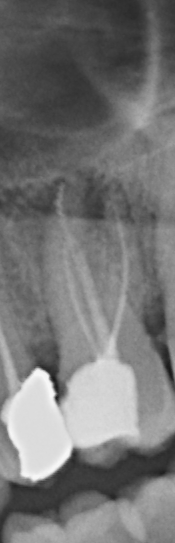fracture: (55, 182, 71, 246)
